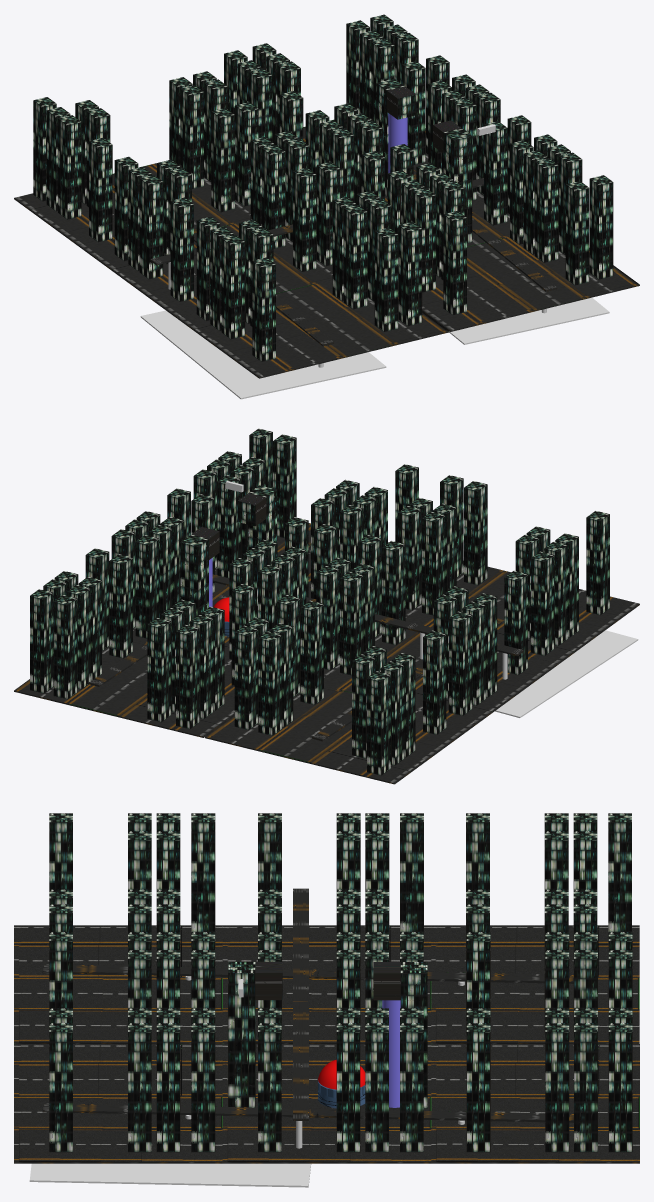
Rendered from City.FBX.
3 views of the same model, one above another, from view 1: azimuth 30°, elevation 25°; view 2: azimuth 150°, elevation 25°; view 3: azimuth 270°, elevation 25° (orthographic). The views are drawn at different scales.
Parts seen in each view (by area): view 1: City Ground003, City Ground002, City Ground006, City Ground004, City Ground005, City Ground007, Building045, Building054, Building048, Building041, Building057, Building060 (+69 smaller); view 2: City Ground005, City Ground001, City Ground003, City Ground004, City Ground006, Building058, Building046, Building027, Building076, Elevator Building, Building023, Building079 (+64 smaller); view 3: City Ground002, City Ground001, City Ground003, City Ground005, City Ground, City Ground004, City Ground007, Elevator Building001, Building023, Building025, Building026, Building038 (+48 smaller).
Part boxes in pixels (x1=…): City Ground003: x1=177, y1=280, x2=448, y2=378; City Ground002: x1=398, y1=236, x2=639, y2=331; City Ground006: x1=140, y1=310, x2=386, y2=399; City Ground004: x1=95, y1=220, x2=332, y2=318; City Ground005: x1=14, y1=163, x2=250, y2=258; City Ground007: x1=449, y1=297, x2=609, y2=344; Building045: x1=565, y1=181, x2=589, y2=285; Building054: x1=398, y1=221, x2=422, y2=326; Building048: x1=221, y1=235, x2=245, y2=339; Building041: x1=589, y1=175, x2=613, y2=279; Building057: x1=374, y1=227, x2=398, y2=331; Building060: x1=139, y1=175, x2=163, y2=279; City Ground005: x1=205, y1=686, x2=476, y2=784; City Ground001: x1=14, y1=640, x2=234, y2=737; City Ground003: x1=405, y1=561, x2=639, y2=664; City Ground004: x1=324, y1=629, x2=557, y2=723; City Ground006: x1=495, y1=630, x2=638, y2=717; Building058: x1=448, y1=611, x2=472, y2=715; Building046: x1=530, y1=551, x2=554, y2=655; Building027: x1=53, y1=595, x2=77, y2=699; Building076: x1=234, y1=625, x2=258, y2=729; Elevator Building: x1=180, y1=527, x2=219, y2=616; Building023: x1=30, y1=589, x2=53, y2=693; Building079: x1=258, y1=631, x2=281, y2=735; City Ground002: x1=14, y1=1044, x2=222, y2=1163; City Ground001: x1=431, y1=1044, x2=639, y2=1163; City Ground003: x1=14, y1=925, x2=222, y2=1043; City Ground005: x1=431, y1=925, x2=639, y2=1043; City Ground: x1=222, y1=1044, x2=431, y2=1163; City Ground004: x1=222, y1=925, x2=431, y2=1043; City Ground007: x1=29, y1=1163, x2=311, y2=1187; Elevator Building001: x1=228, y1=961, x2=282, y2=1107; Building023: x1=608, y1=1023, x2=632, y2=1152; Building025: x1=545, y1=1023, x2=569, y2=1152; Building026: x1=466, y1=1023, x2=490, y2=1152; Building038: x1=191, y1=1023, x2=215, y2=1152.
Bounding box in the file's own units: 35185 × 11725 × 38468.
Materials: 6 (4 with a texture image).
